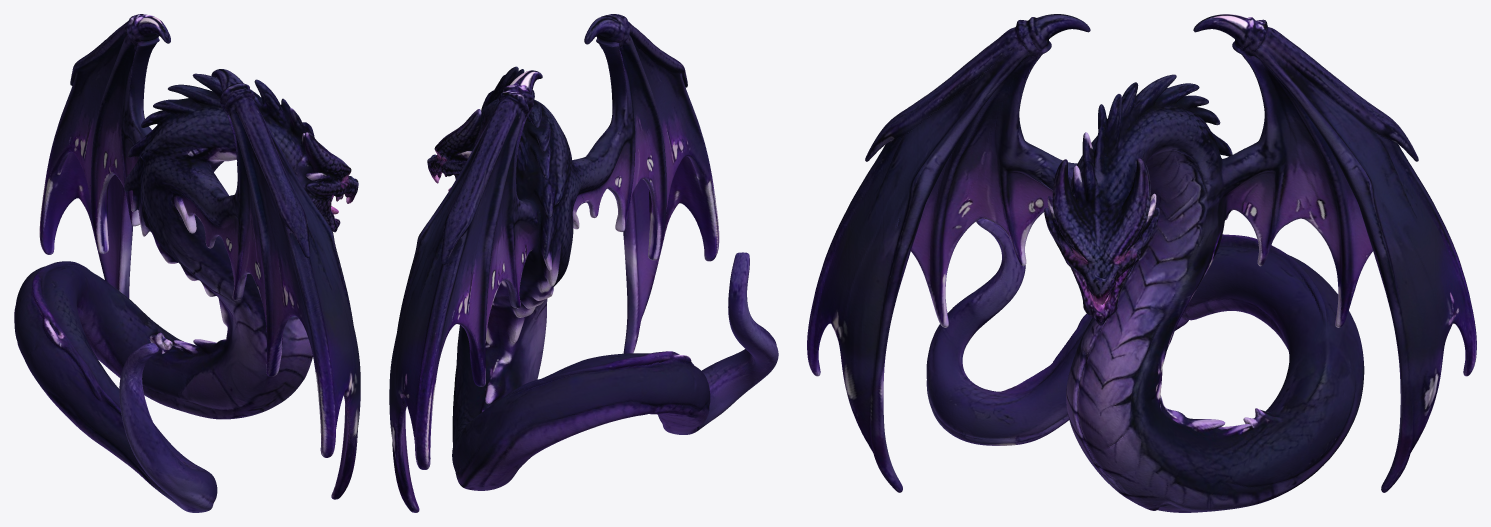
The model's file is floor10-astral-dragon.glb.
The picture shows the model from 3 angles, left to right: view 1: azimuth 30°, elevation 25°; view 2: azimuth 150°, elevation 25°; view 3: azimuth 270°, elevation 25°; orthographic projection. The views are drawn at different scales.
Visible parts, largest first — view 1: tripo_node_ed888098-1717-4e0f-a74f-c89199964e28; view 2: tripo_node_ed888098-1717-4e0f-a74f-c89199964e28; view 3: tripo_node_ed888098-1717-4e0f-a74f-c89199964e28.
Boxes of the visible parts, box(x1,y1,x2,y2) form: tripo_node_ed888098-1717-4e0f-a74f-c89199964e28: box(14, 14, 360, 512); tripo_node_ed888098-1717-4e0f-a74f-c89199964e28: box(389, 14, 778, 512); tripo_node_ed888098-1717-4e0f-a74f-c89199964e28: box(807, 14, 1476, 512).
Size of the model in its own units: 0.5911 by 0.7662 by 1.
1 material, 1 textured.
